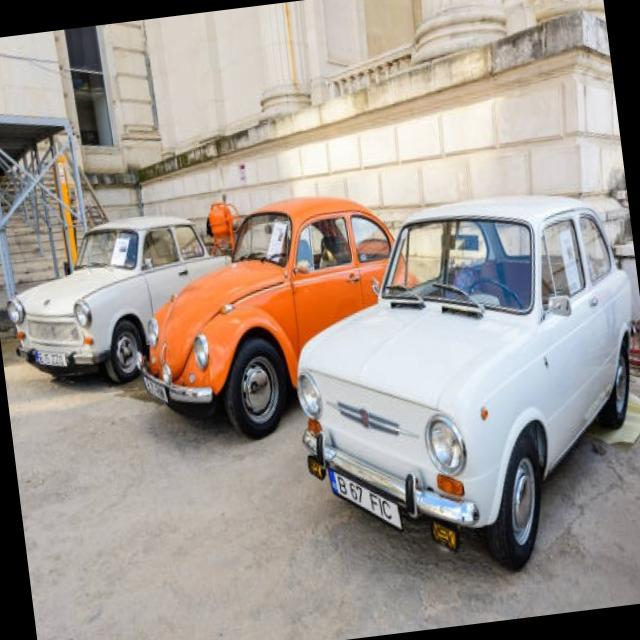car: (286, 188, 640, 558), (124, 178, 442, 436), (0, 199, 246, 395)
